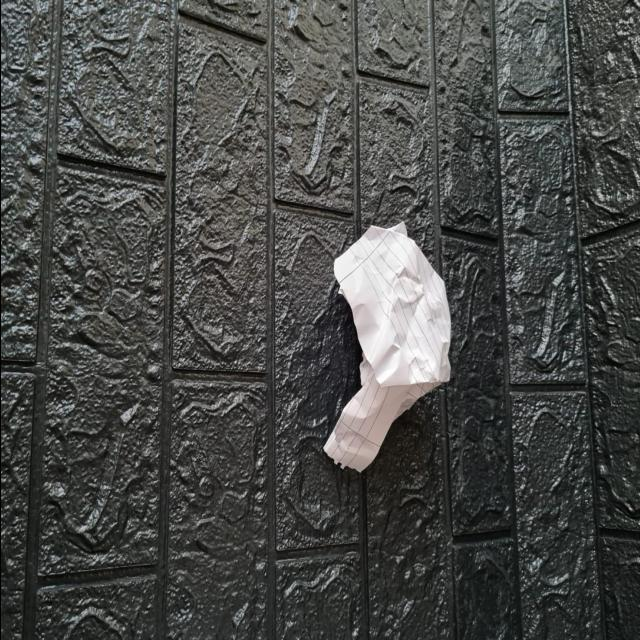kertas: (317, 202, 451, 474)
